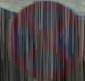No Stopping: (9, 4, 76, 70)
